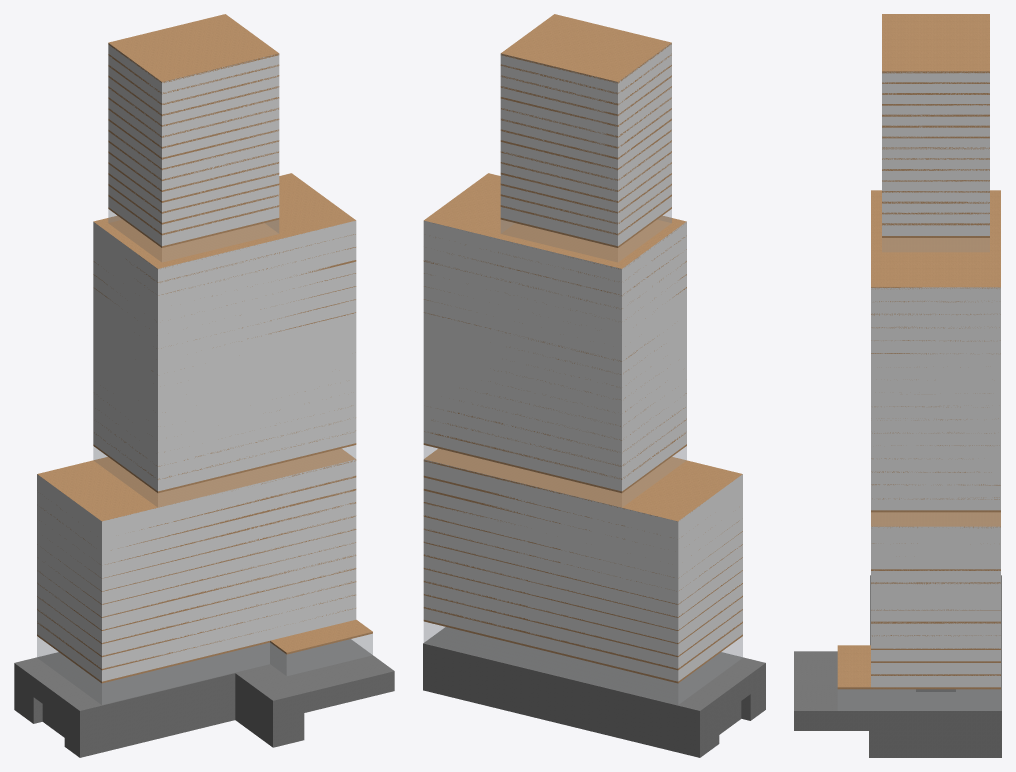
Rendered from tower.glb.
The picture shows the model from 3 angles, left to right: view 1: azimuth 30°, elevation 25°; view 2: azimuth 150°, elevation 25°; view 3: azimuth 270°, elevation 25°; orthographic projection.
Visible parts, largest first — view 1: Geom3D (×4), Geom3D_, Geom3D_Office 1, Geom3D_Component 3, Geom3D_Component 2; view 2: Geom3D (×4), Geom3D_, Geom3D_Office 1, Geom3D_Component 3, Geom3D_Component 2; view 3: Geom3D (×4), Geom3D_, Geom3D_Component 3, Geom3D_Component 2, Geom3D_Office 1.
Part boxes in pixels (x1,y1,x2,y2): Geom3D (×4): (37, 44, 372, 704); Geom3D_: (14, 639, 394, 757); Geom3D_Office 1: (37, 448, 372, 683); Geom3D_Component 3: (108, 14, 279, 247); Geom3D_Component 2: (93, 173, 356, 493); Geom3D (×4): (423, 43, 742, 704); Geom3D_: (423, 627, 765, 757); Geom3D_Office 1: (423, 448, 742, 683); Geom3D_Component 3: (500, 14, 671, 247); Geom3D_Component 2: (423, 173, 686, 493); Geom3D (×4): (838, 71, 1000, 710); Geom3D_: (794, 575, 1001, 757); Geom3D_Component 3: (882, 14, 989, 237); Geom3D_Component 2: (871, 190, 1000, 512); Geom3D_Office 1: (837, 512, 1000, 689).
Size of the model in its own units: 97.84 by 219 by 63.4.
Materials: 5 (2 with a texture image).
